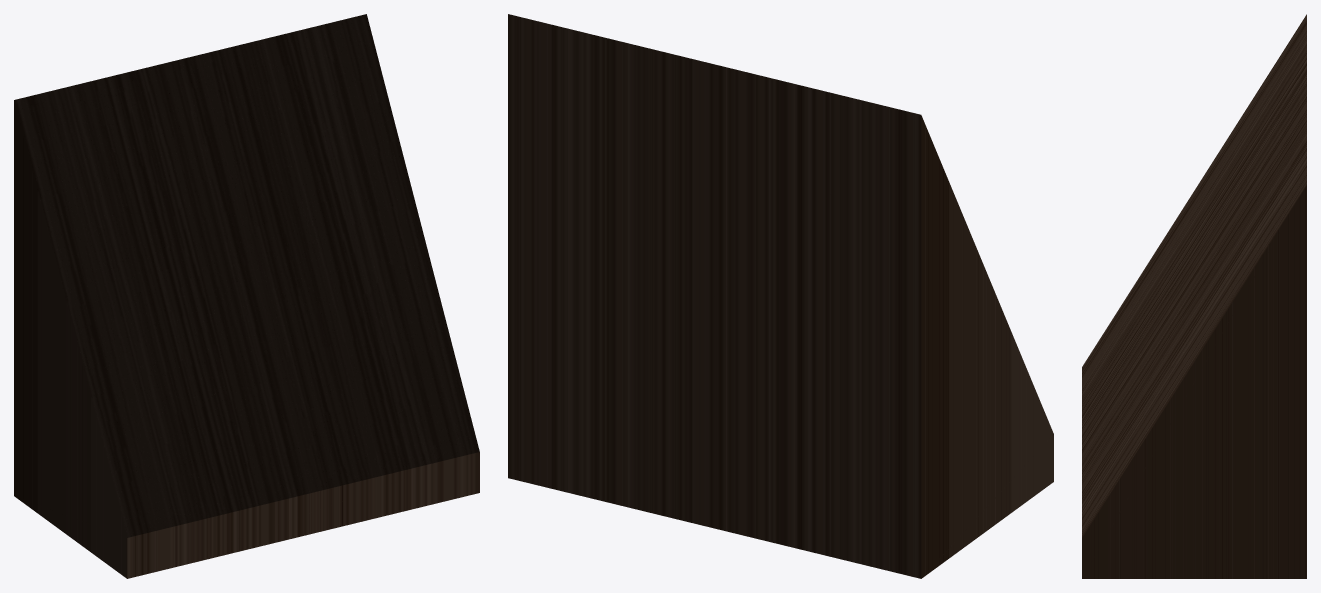
Rendered from wedge_60.glb.
3 views of the same model, side by side, from view 1: azimuth 30°, elevation 25°; view 2: azimuth 150°, elevation 25°; view 3: azimuth 270°, elevation 25° (orthographic). The views are drawn at different scales.
Visible parts, largest first — view 1: wedge_60; view 2: wedge_60; view 3: wedge_60.
Part boxes in pixels (x1,y1,x2,y2): wedge_60: (14,14,479,578); wedge_60: (508,14,1053,578); wedge_60: (1082,14,1306,578).
Bounding box in the file's own units: 0.36 × 0.3864 × 0.2.
Materials: 1 (1 with a texture image).
